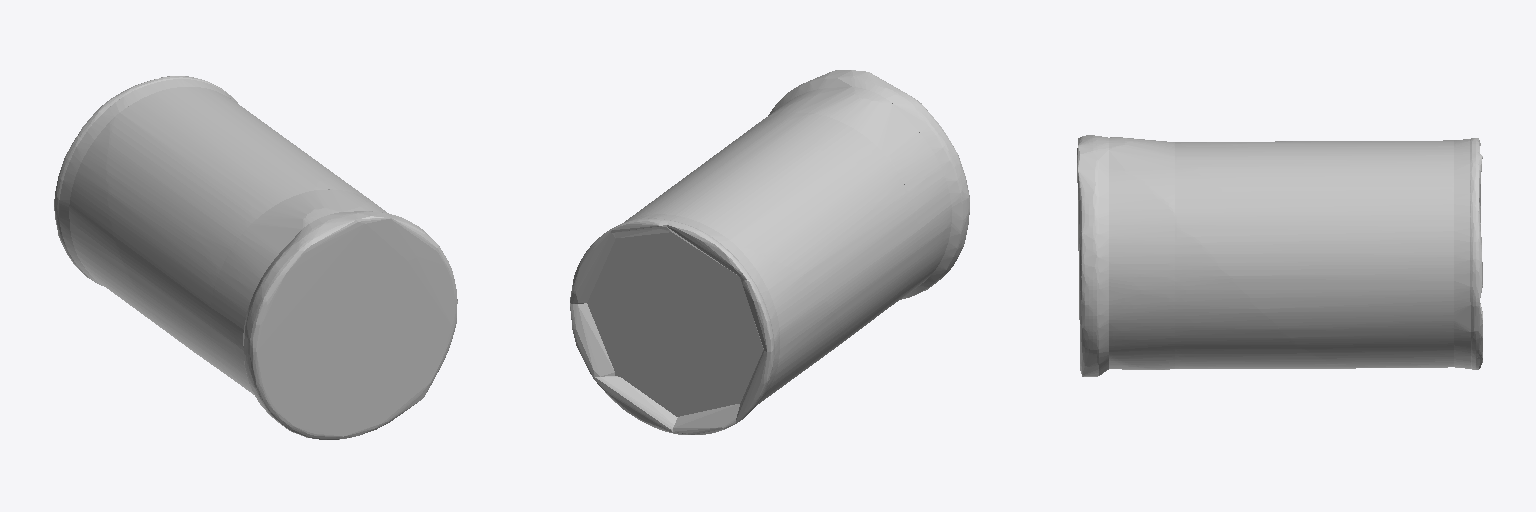
File: coacd_collision.obj
The picture shows the model from 3 angles: view 1: azimuth 30°, elevation 25°; view 2: azimuth 150°, elevation 25°; view 3: azimuth 270°, elevation 25°; orthographic projection.
Visible parts, largest first — view 1: geometry_2, geometry_0, geometry_1, geometry_3; view 2: geometry_2, geometry_3, geometry_1, geometry_0, geometry_11, geometry_5, geometry_4, geometry_7, geometry_10, geometry_9, geometry_8, geometry_6; view 3: geometry_2, geometry_1, geometry_0, geometry_3, geometry_4, geometry_5.
Part boxes in pixels (bbox=[...]): geometry_2: bbox=[69, 87, 372, 383]; geometry_0: bbox=[243, 211, 457, 439]; geometry_1: bbox=[210, 189, 388, 394]; geometry_3: bbox=[59, 79, 236, 286]; geometry_2: bbox=[624, 113, 918, 405]; geometry_3: bbox=[587, 214, 779, 416]; geometry_1: bbox=[756, 87, 951, 304]; geometry_0: bbox=[768, 70, 969, 299]; geometry_11: bbox=[592, 376, 677, 432]; geometry_5: bbox=[570, 303, 614, 376]; geometry_4: bbox=[570, 228, 615, 303]; geometry_7: bbox=[667, 221, 750, 279]; geometry_10: bbox=[673, 404, 739, 434]; geometry_9: bbox=[736, 349, 774, 422]; geometry_8: bbox=[740, 277, 774, 351]; geometry_6: bbox=[611, 218, 670, 237]; geometry_2: bbox=[1175, 140, 1453, 368]; geometry_1: bbox=[1109, 137, 1174, 369]; geometry_0: bbox=[1077, 135, 1108, 376]; geometry_3: bbox=[1454, 139, 1470, 368]; geometry_4: bbox=[1470, 198, 1482, 301]; geometry_5: bbox=[1471, 302, 1482, 357].
Size of the model in its own units: 72.14 by 72.84 by 122.